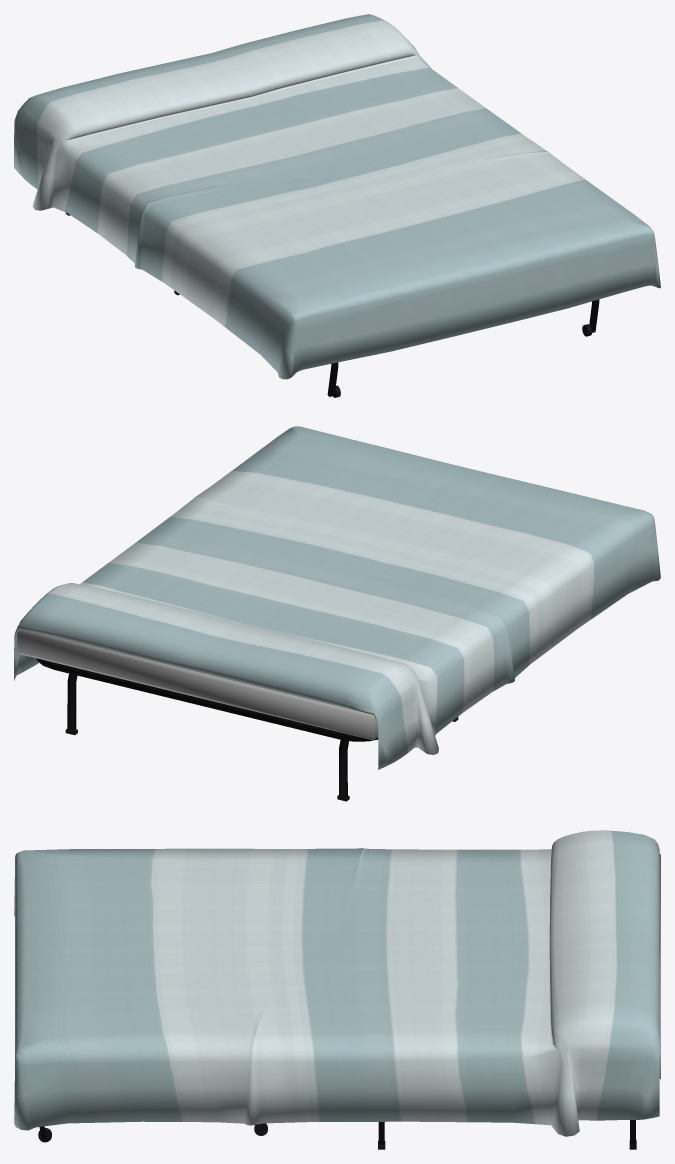
Rendered from convertible-sofa-BZ-opened.obj.
3 renders of one model, top to bottom at view 1: azimuth 30°, elevation 25°; view 2: azimuth 150°, elevation 25°; view 3: azimuth 270°, elevation 25°, orthographic. The views are drawn at different scales.
Visible parts, largest first — view 1: Colcha_Plane.001, Cube; view 2: Colcha_Plane.001, Cube.001, Cube; view 3: Colcha_Plane.001, Cube.
Boxes of the visible parts, bbox=[...] form: Colcha_Plane.001: bbox=[14, 14, 660, 379]; Cube: bbox=[65, 213, 599, 397]; Colcha_Plane.001: bbox=[14, 426, 660, 769]; Cube.001: bbox=[17, 629, 377, 740]; Cube: bbox=[36, 658, 458, 801]; Colcha_Plane.001: bbox=[14, 830, 659, 1136]; Cube: bbox=[38, 1120, 636, 1149].
Bounding box in the file's own units: 158 × 47.77 × 190.
Materials: 4 (1 with a texture image).
